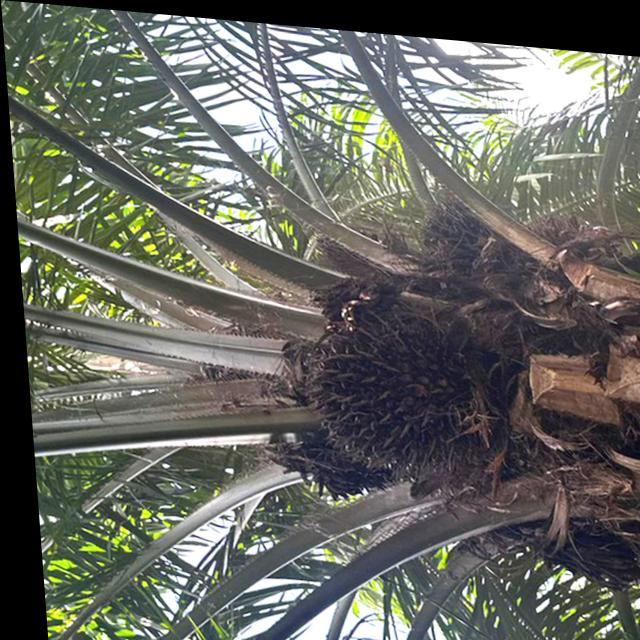ripe: (274, 286, 496, 489)
